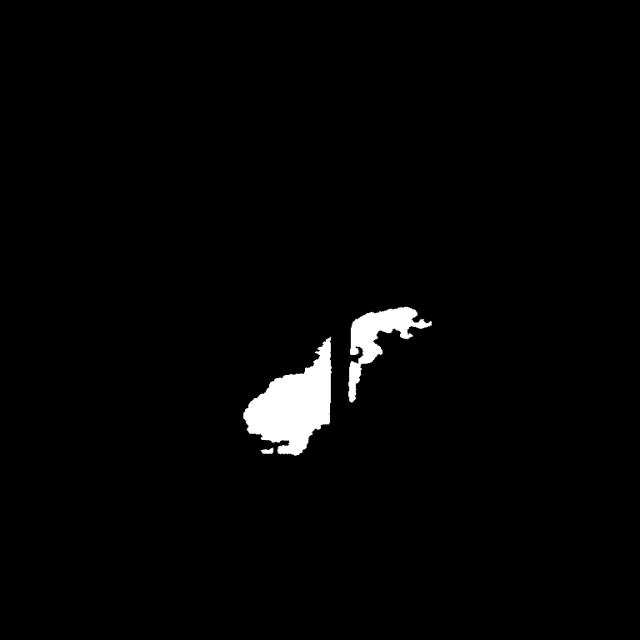fire: (181, 284, 542, 475)
